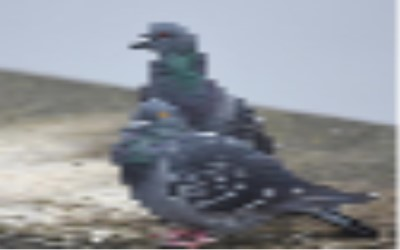pigeon: (108, 96, 381, 248), (123, 18, 234, 94)
